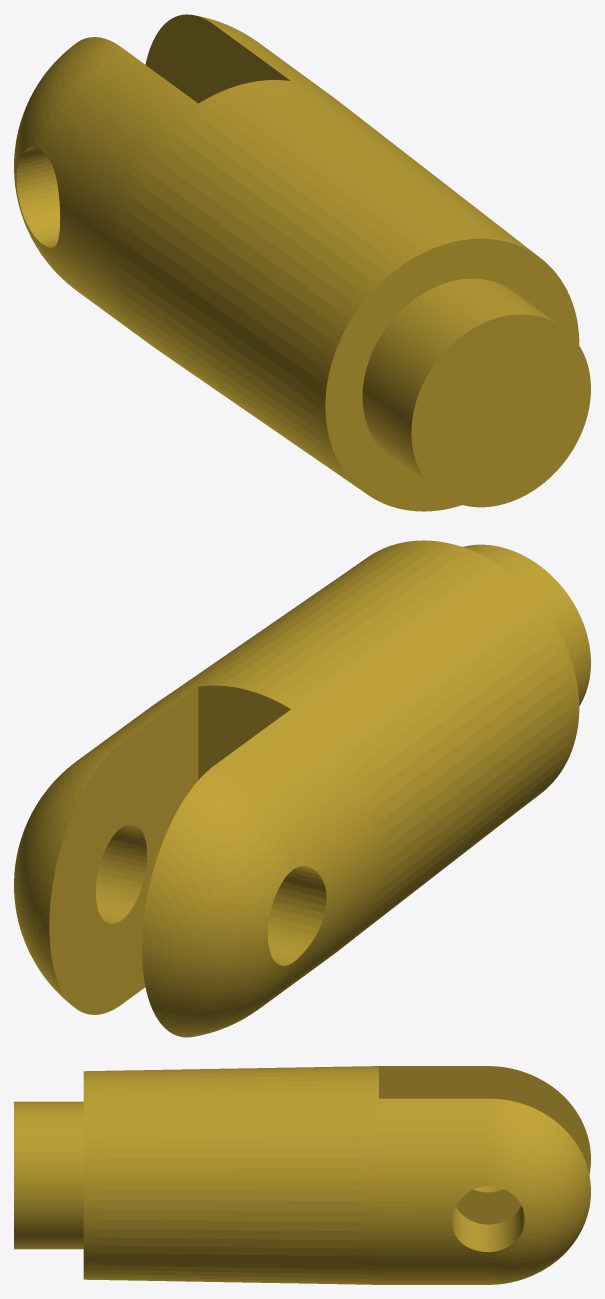
3 renders of one model, top to bottom at view 1: azimuth 30°, elevation 25°; view 2: azimuth 150°, elevation 25°; view 3: azimuth 270°, elevation 25°, orthographic. The views are drawn at different scales.
Visible parts, largest first — view 1: node; view 2: node; view 3: node.
Part boxes in pixels (bbox=[...]): node: bbox=[14, 14, 590, 511]; node: bbox=[14, 540, 590, 1037]; node: bbox=[14, 1066, 590, 1284].
Size of the model in its own units: 0.0556 by 0.0556 by 0.1465.
